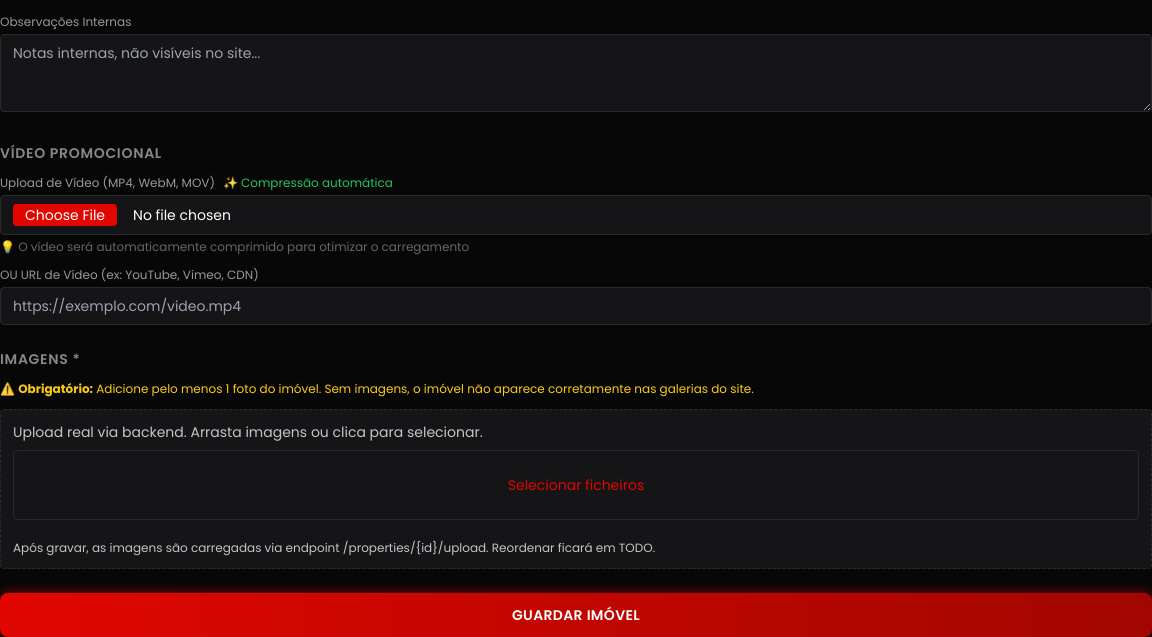
PropertyForm › bloqueia envio se faltar campos obrigatórios
This screenshot has width=1152, height=637.
(page scrolled)
Click the button "Guardar Imóvel" at (576, 615), box [0,593,1151,636]
(page scrolled)
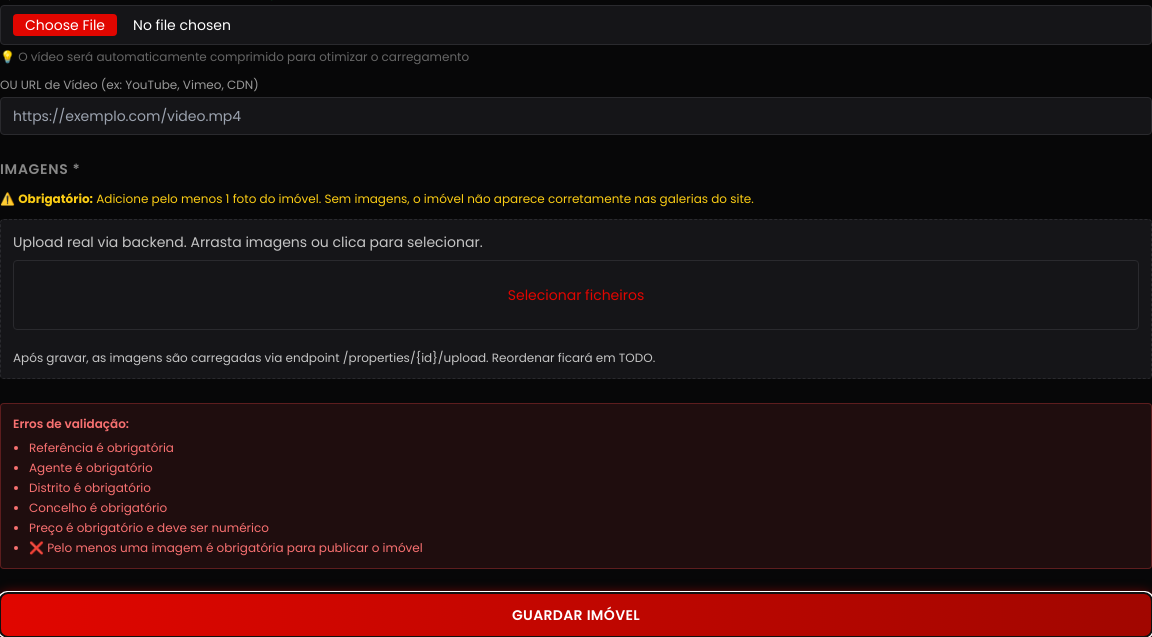
Check: the list item "Referência é obrigatória" is shown, box [29,439,174,456]
